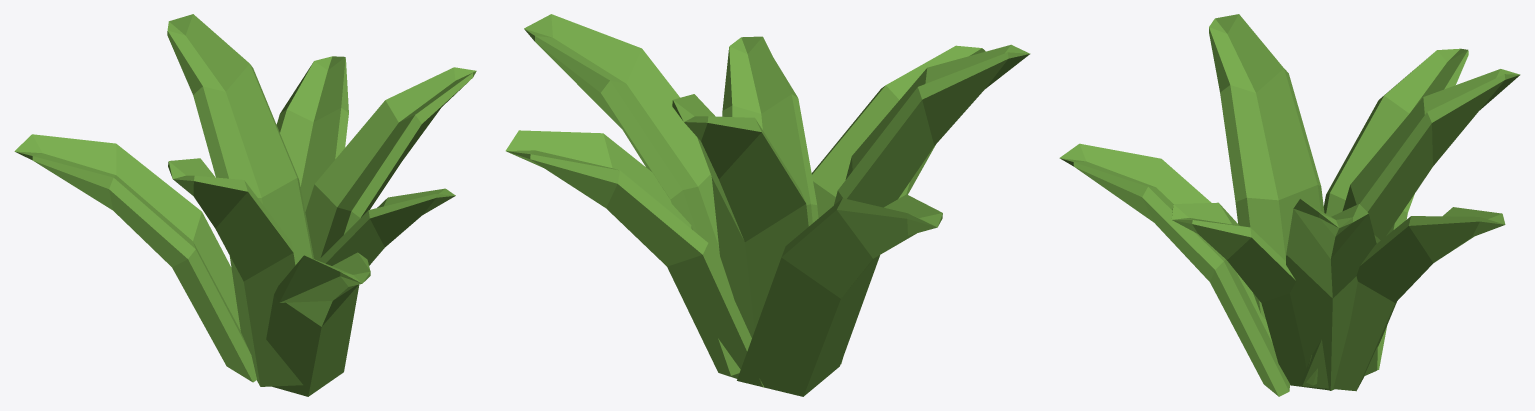
Rendered from Plant_Aloe.fbx.
3 views of the same model, side by side, from view 1: azimuth 30°, elevation 25°; view 2: azimuth 150°, elevation 25°; view 3: azimuth 270°, elevation 25° (orthographic). The views are drawn at different scales.
Visible parts, largest first — view 1: Cube; view 2: Cube; view 3: Cube.
Part boxes in pixels (<box>): Cube: <box>14,14,476,396</box>; Cube: <box>505,14,1030,396</box>; Cube: <box>1059,14,1520,396</box>.
Bounding box in the file's own units: 6.6 × 4.65 × 6.26.
